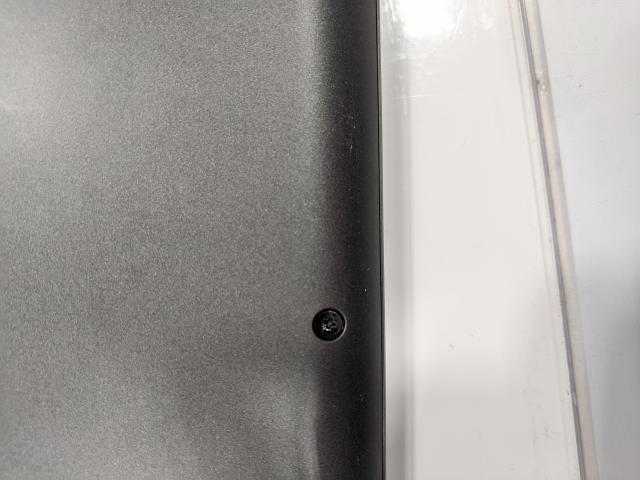CRS: (316, 308, 346, 339)
